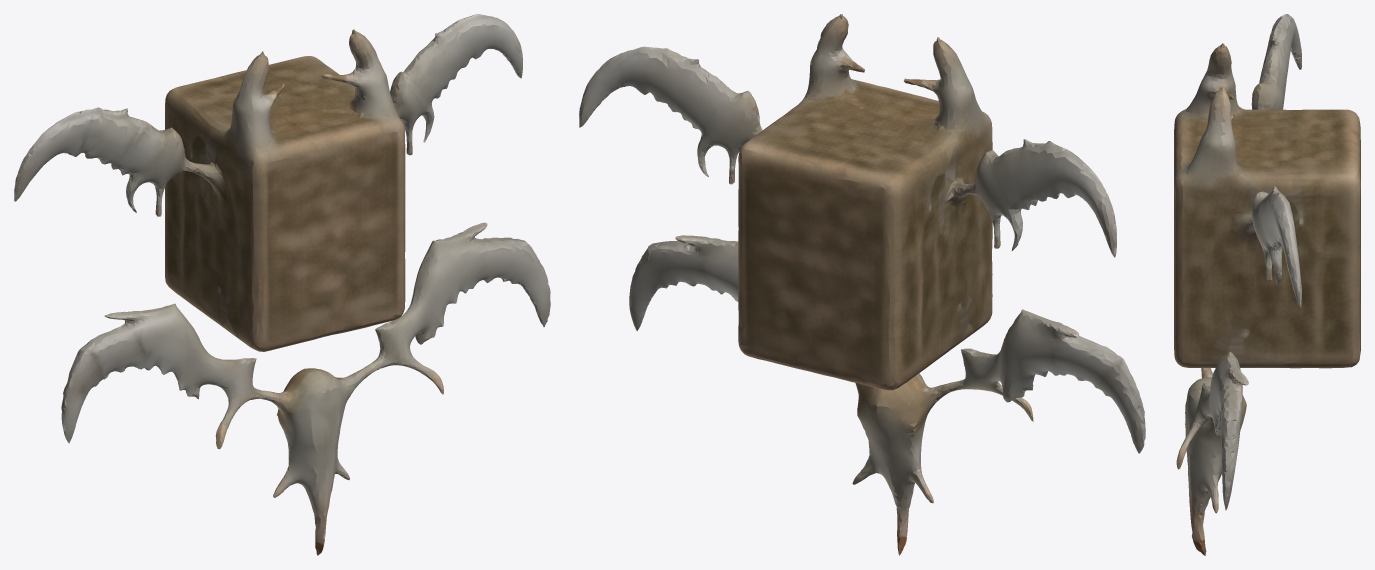
The picture shows the model from 3 angles, left to right: view 1: azimuth 30°, elevation 25°; view 2: azimuth 150°, elevation 25°; view 3: azimuth 270°, elevation 25°; orthographic projection. The views are drawn at different scales.
Visible parts, largest first — view 1: ClimbingClaws; view 2: ClimbingClaws; view 3: ClimbingClaws.
Part boxes in pixels (x1,y1,x2,y2): ClimbingClaws: (14,14,550,555); ClimbingClaws: (579,14,1145,555); ClimbingClaws: (1174,14,1360,555).
Size of the model in its own units: 1.9 by 1.82 by 0.6267.
Materials: 1 (1 with a texture image).
